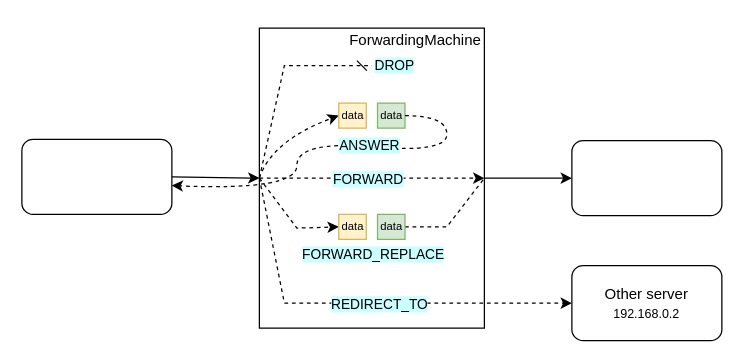
This 744x363 diagram has some shape labels left out. The shapes that lost their labels are listed below. From the top down, each one's centre as x and y in pixels, then its label:
At point 96,176: "Client".
At point 646,177: "Server 192.168.0.1".
